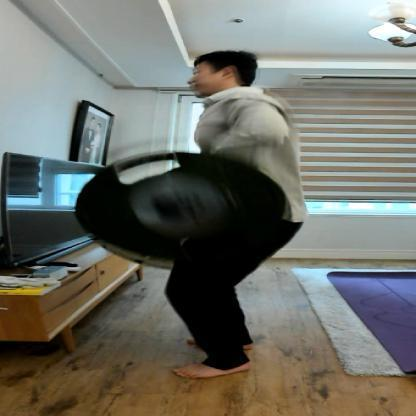barbell: (75, 149, 290, 272)
